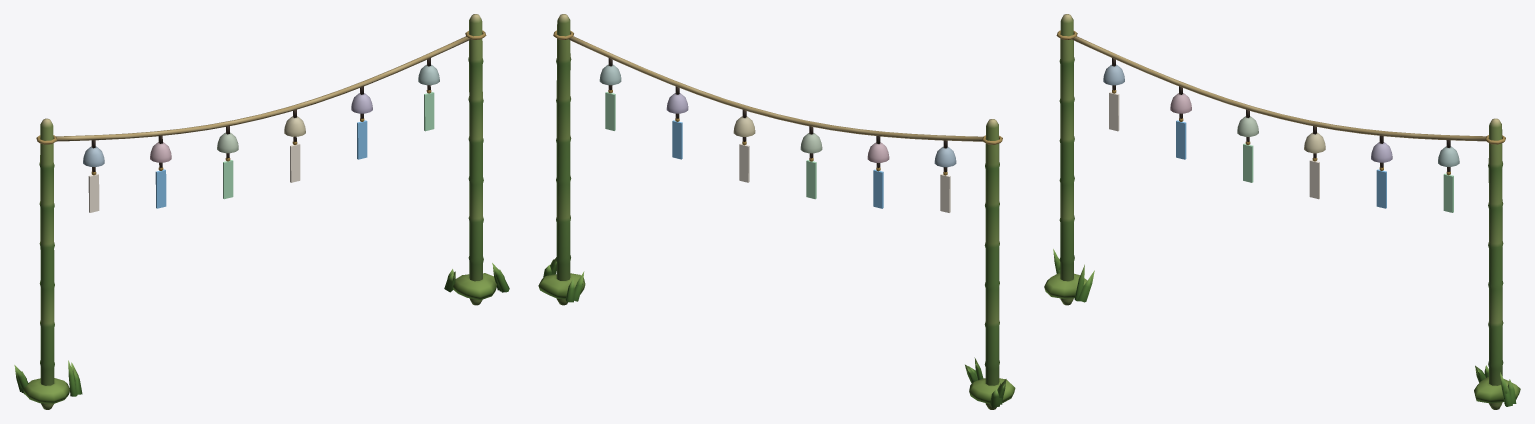
The model's file is rg-bamboo-chimes.glb.
3 renders of one model, left to right at view 1: azimuth 30°, elevation 25°; view 2: azimuth 150°, elevation 25°; view 3: azimuth 330°, elevation 25°, orthographic.
Visible parts, largest first — view 1: body, cloth, stone, leaf; view 2: body, cloth, stone, leaf; view 3: body, cloth, stone, leaf.
Boxes of the visible parts, <box> form: body: <box>36,14,486,409</box>; cloth: <box>88,92,434,212</box>; stone: <box>23,273,497,403</box>; leaf: <box>14,263,509,396</box>; body: <box>553,14,1002,409</box>; cloth: <box>605,92,950,212</box>; stone: <box>538,273,1015,403</box>; leaf: <box>543,257,1006,407</box>; body: <box>1056,14,1505,409</box>; cloth: <box>1109,92,1453,212</box>; stone: <box>1044,273,1520,403</box>; leaf: <box>1053,249,1516,406</box>.
Bounding box in the file's own units: 4.69 × 2.72 × 0.4533.
